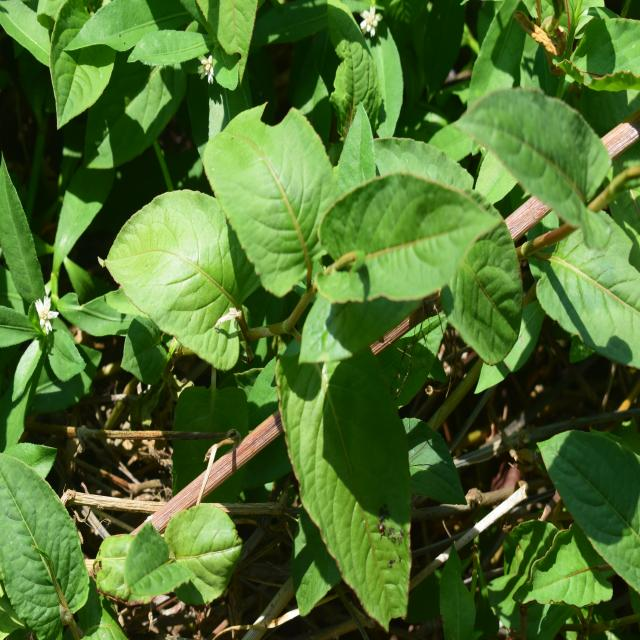Chinese_knotweed: (129, 118, 484, 600)
